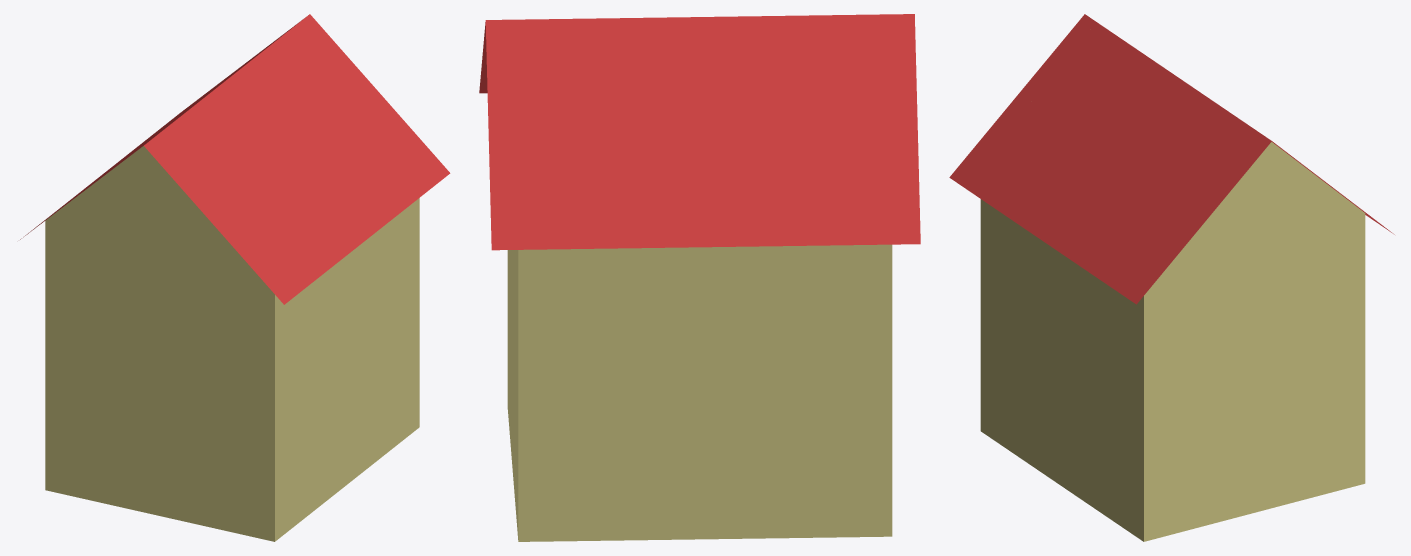
3 renders of one model, left to right at view 1: azimuth 30°, elevation 25°; view 2: azimuth 150°, elevation 25°; view 3: azimuth 270°, elevation 25°, orthographic. The views are drawn at different scales.
Size of the model in its own units: 15.23 by 14.73 by 13.75.
